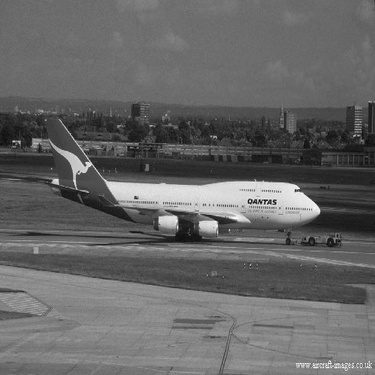airplane: (11, 110, 328, 246)
